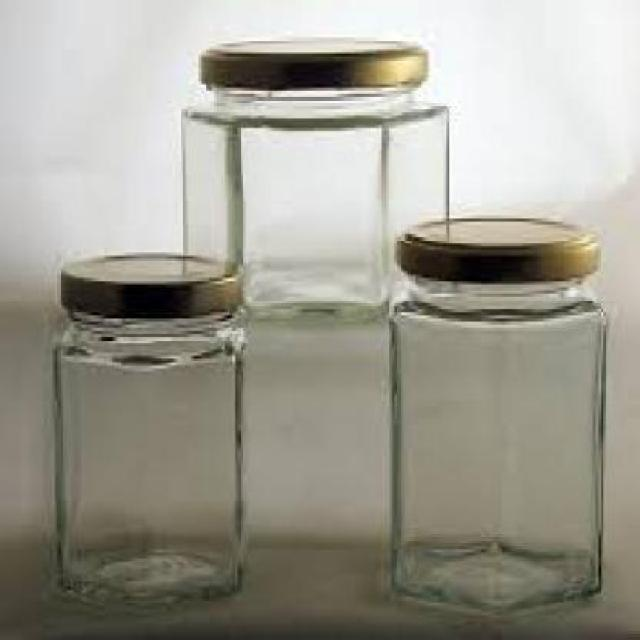kaca: (388, 276, 602, 616), (182, 88, 448, 315), (52, 306, 243, 603)
